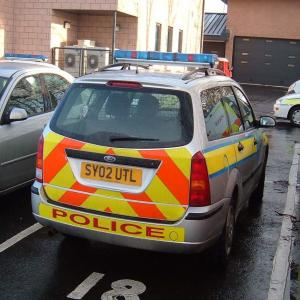Vehicle-registration-plate: (66, 156, 156, 202)
